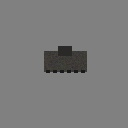armoured_vehicle: (44, 51, 87, 72)
